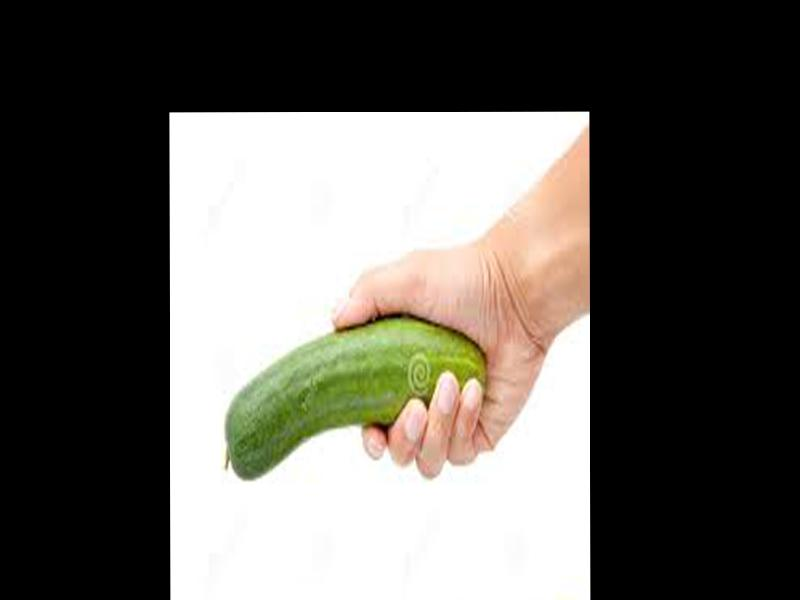Cucumber: (223, 321, 486, 481)
